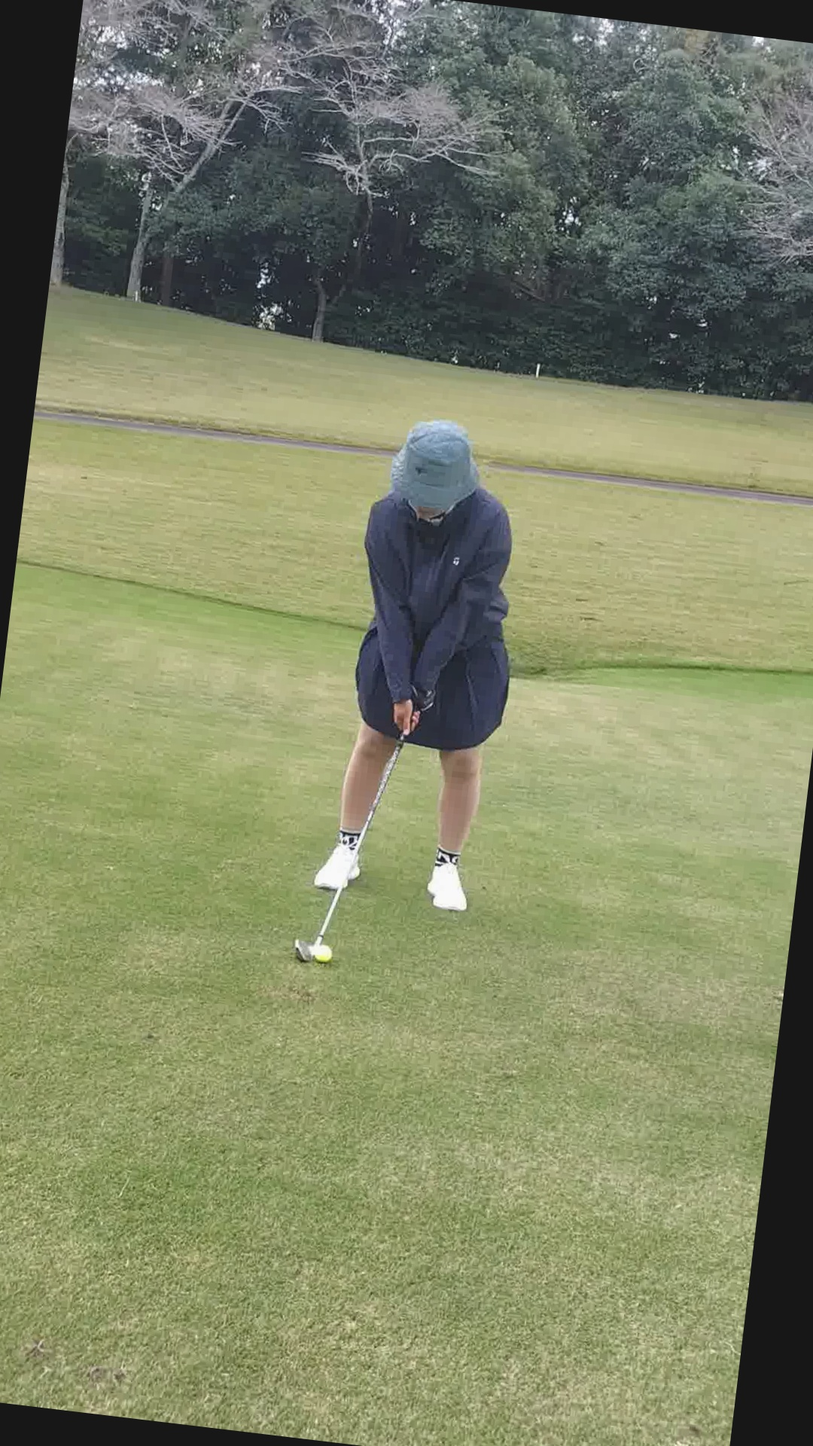clubhead: (213, 895, 384, 1037)
